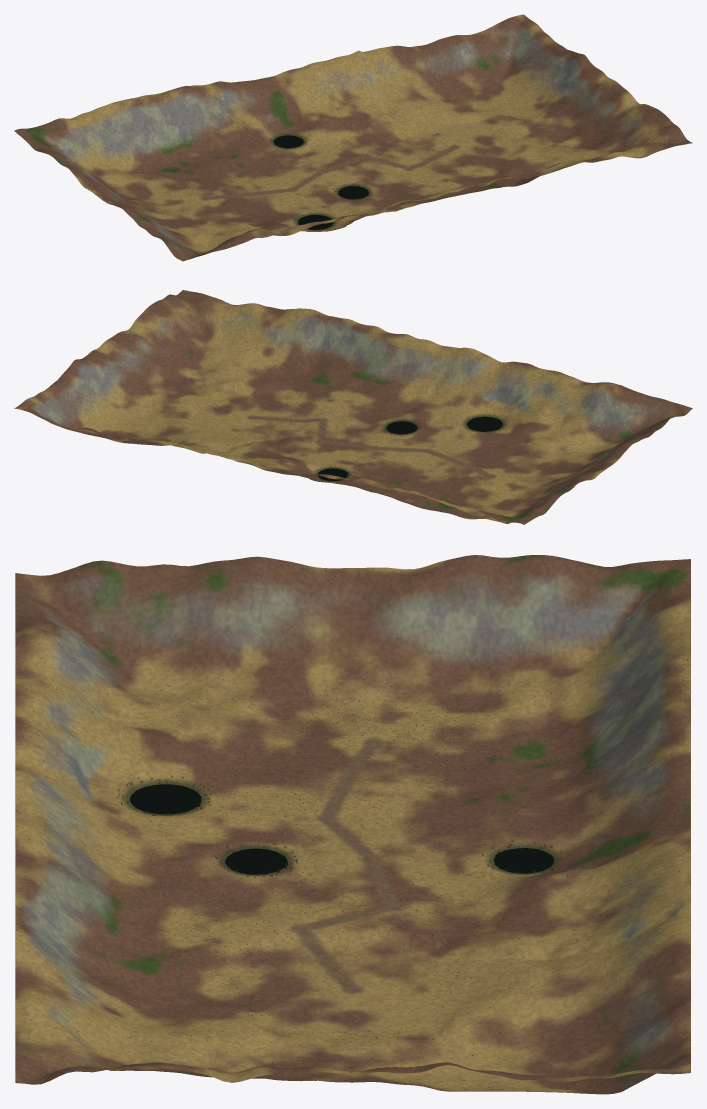
Rendered from SM_Art_Terrain_L_CrystalPassage.gltf.
The picture shows the model from 3 angles, top to bottom: view 1: azimuth 30°, elevation 25°; view 2: azimuth 150°, elevation 25°; view 3: azimuth 270°, elevation 25°; orthographic projection. The views are drawn at different scales.
Visible parts, largest first — view 1: SM_Art_Terrain_L_CrystalPassage; view 2: SM_Art_Terrain_L_CrystalPassage; view 3: SM_Art_Terrain_L_CrystalPassage.
Part boxes in pixels (x1=…): SM_Art_Terrain_L_CrystalPassage: x1=14, y1=14, x2=692, y2=261; SM_Art_Terrain_L_CrystalPassage: x1=14, y1=290, x2=692, y2=524; SM_Art_Terrain_L_CrystalPassage: x1=15, y1=555, x2=690, y2=1094.
Bounding box in the file's own units: 273 × 24.94 × 156.
6 materials, 5 textured.
